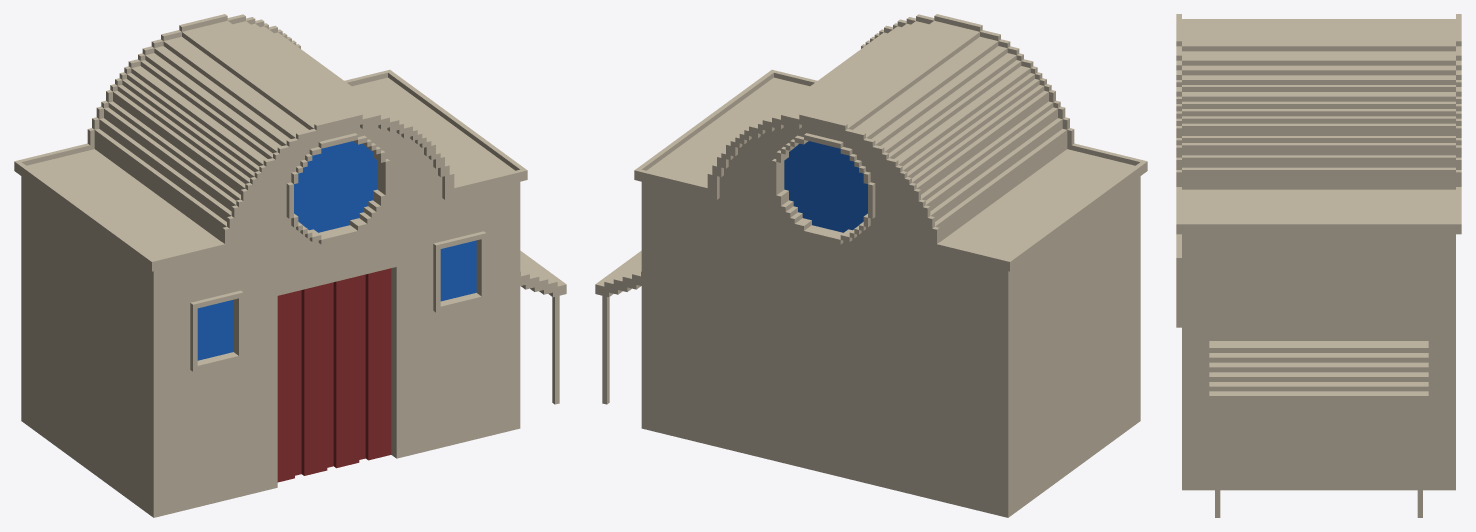
The model's file is Background_C_house_03.FBX.
3 renders of one model, left to right at view 1: azimuth 30°, elevation 25°; view 2: azimuth 150°, elevation 25°; view 3: azimuth 270°, elevation 25°, orthographic. The views are drawn at different scales.
Visible parts, largest first — view 1: Background_C-20; view 2: Background_C-20; view 3: Background_C-20.
Boxes of the visible parts, left/top/right/bottom form: Background_C-20: left=14, top=14, right=566, bottom=517; Background_C-20: left=595, top=14, right=1147, bottom=517; Background_C-20: left=1176, top=14, right=1461, bottom=517.
Bounding box in the file's own units: 9.4 × 7.4 × 5.2.
1 material, 1 textured.
